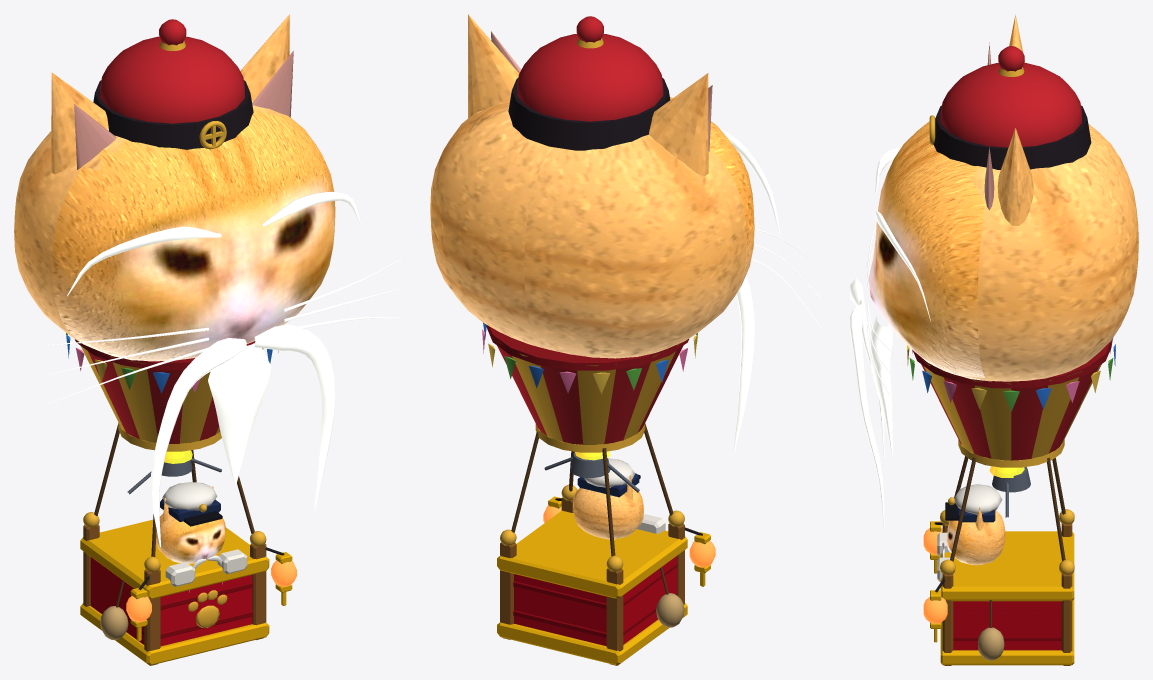
The model's file is balloon.glb.
3 views of the same model, side by side, from view 1: azimuth 30°, elevation 25°; view 2: azimuth 150°, elevation 25°; view 3: azimuth 270°, elevation 25° (orthographic). The views are drawn at different scales.
Visible parts, largest first — view 1: balloon_face, balloon_plain, balloon_hair, balloon_metal, balloon_glow; view 2: balloon_face, balloon_plain, balloon_hair, balloon_metal, balloon_glow; view 3: balloon_face, balloon_plain, balloon_hair, balloon_metal, balloon_glow.
Part boxes in pixels (<box>): balloon_face: <box>14,14,335,563</box>; balloon_plain: <box>66,19,293,665</box>; balloon_hair: <box>47,191,401,547</box>; balloon_metal: <box>83,121,266,572</box>; balloon_glow: <box>126,560,296,622</box>; balloon_face: <box>430,14,754,539</box>; balloon_plain: <box>482,16,712,665</box>; balloon_hair: <box>719,128,821,452</box>; balloon_metal: <box>500,423,684,571</box>; balloon_glow: <box>543,505,715,567</box>; balloon_face: <box>868,14,1138,565</box>; balloon_plain: <box>907,42,1115,665</box>; balloon_hair: <box>850,148,930,532</box>; balloon_metal: <box>929,115,1074,574</box>; balloon_glow: <box>923,528,947,623</box>.
Size of the model in its own units: 4.89 by 8.01 by 3.54.
Materials: 6 (1 with a texture image).
